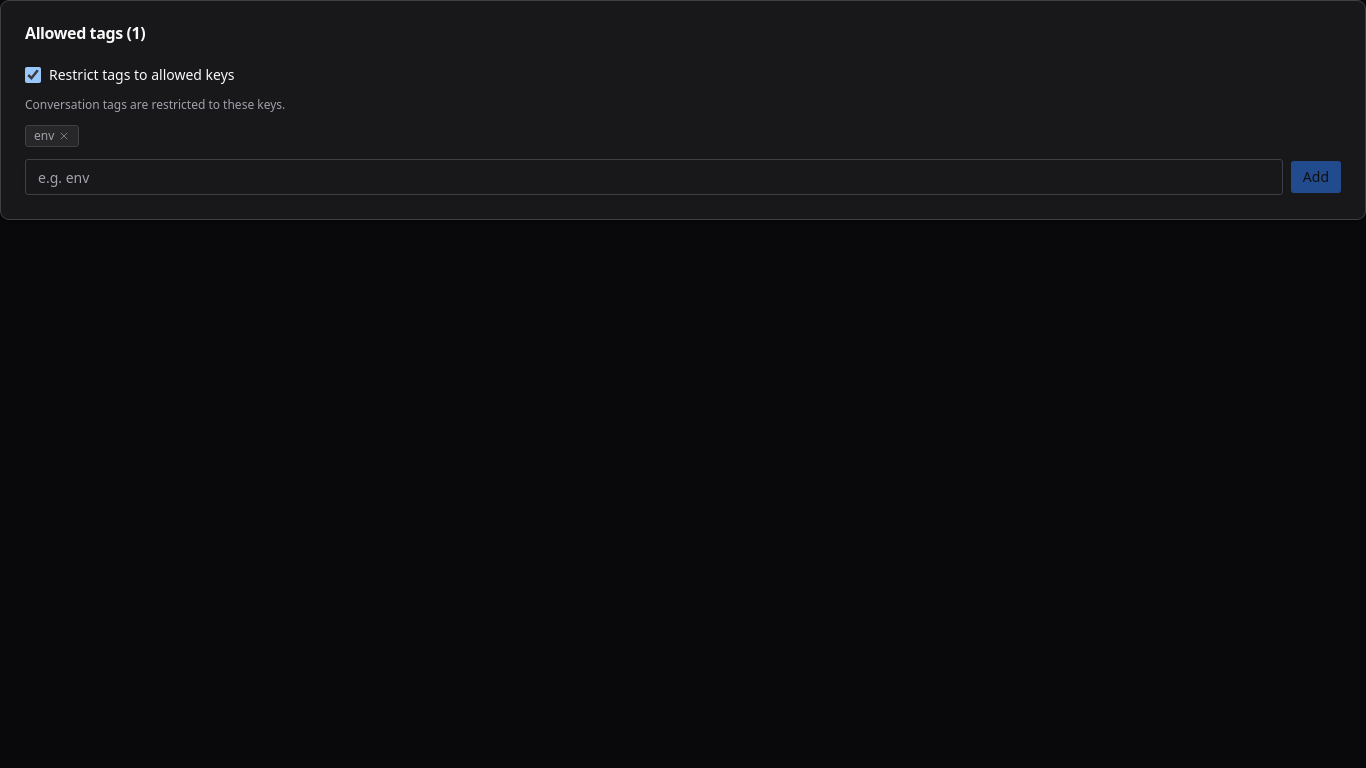
AllowedTagsCard › holds the removal confirm open while the DELETE is in flight
This screenshot has width=1366, height=768.
Click the button named "remove env" at (64, 136), box [58,130,70,142]
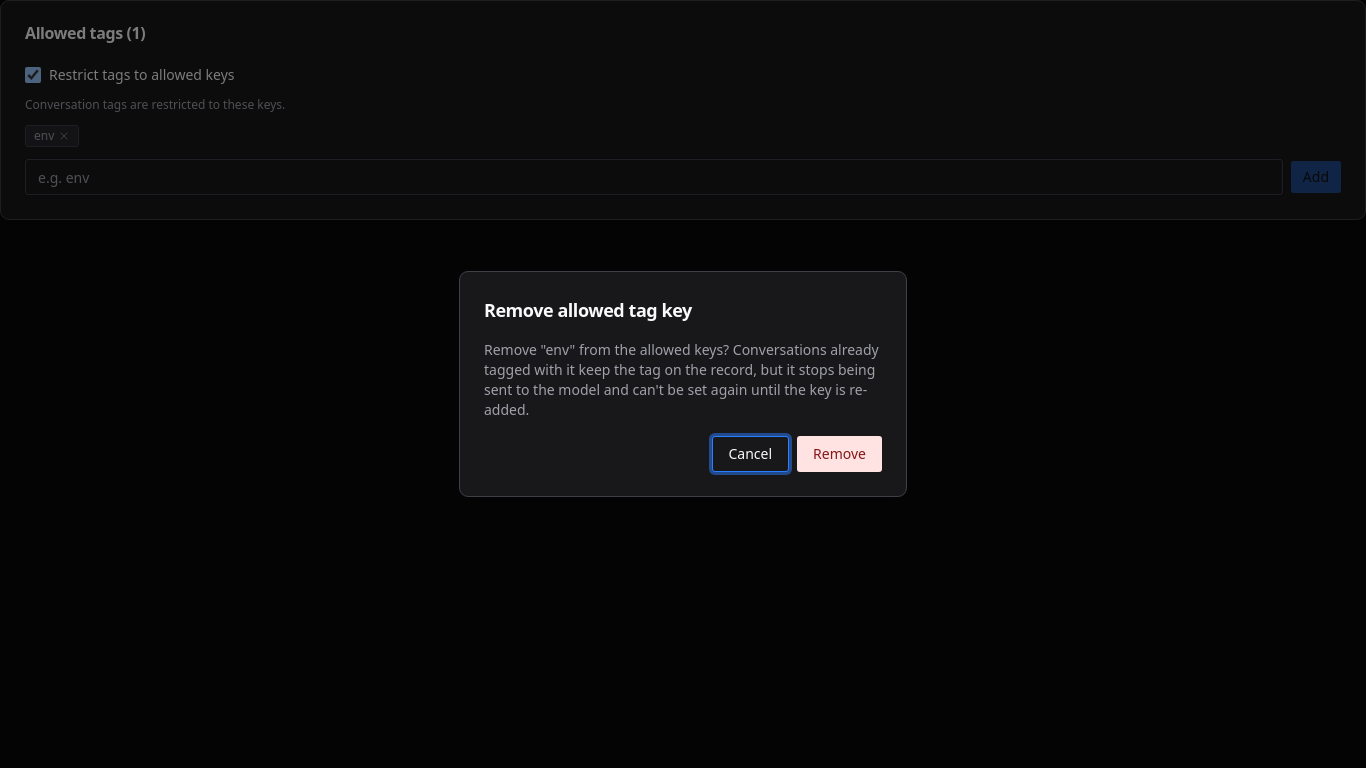
Click the button "Remove" at (840, 454), box [797,436,882,472]
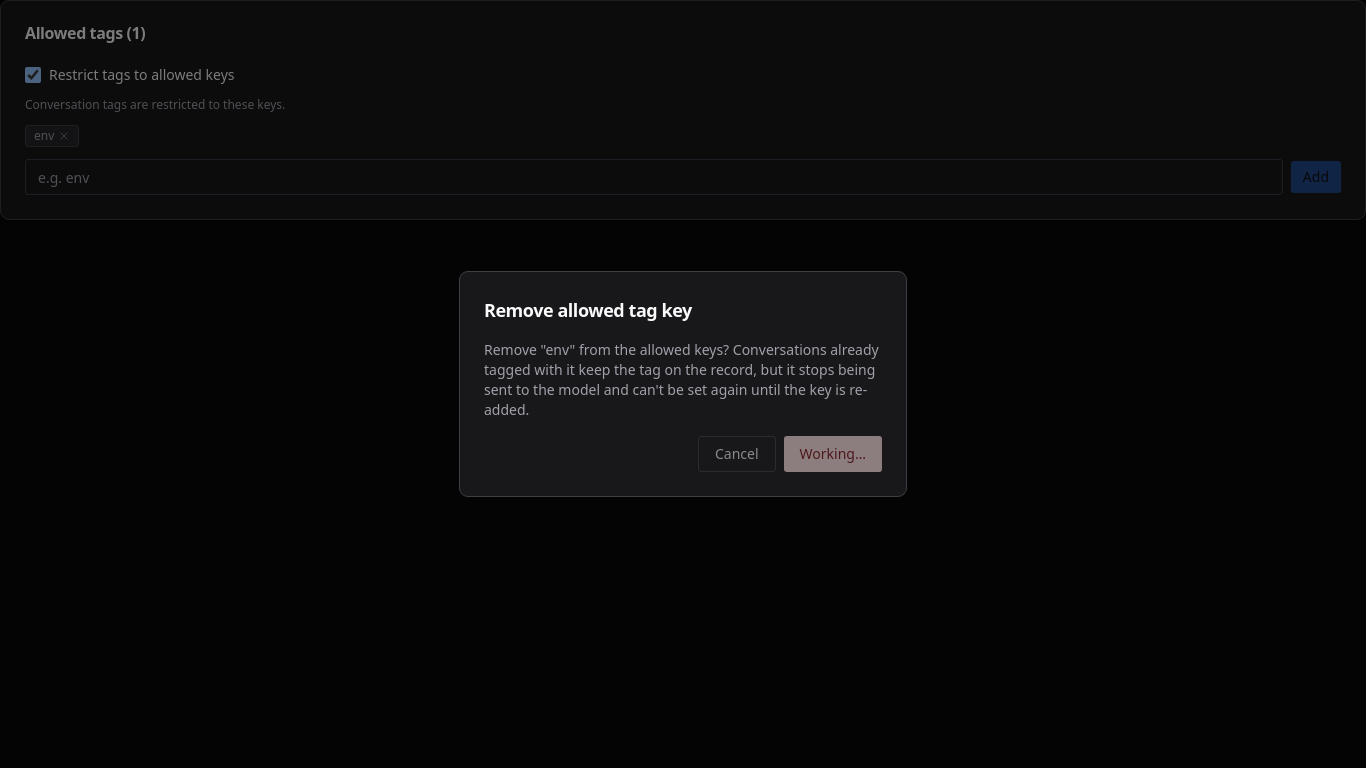
Check: the button "Working…" is disabled, box [784,436,882,472]
Press Escape in the dialog, box [459,271,907,497]
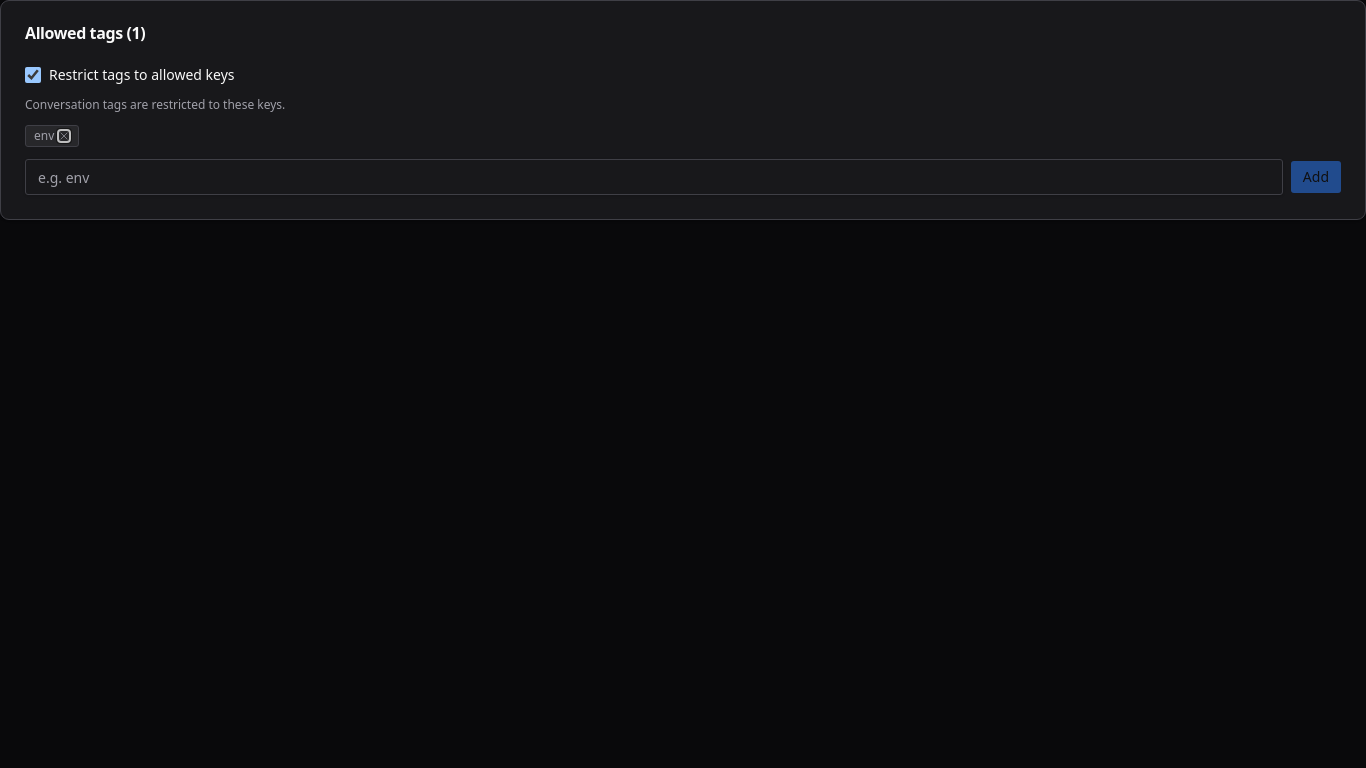
Check: the dialog is gone
